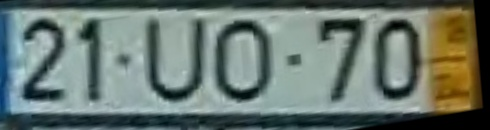0: (371, 15, 423, 104)
1: (73, 15, 104, 107)
2: (17, 15, 69, 102)
7: (315, 17, 368, 106)
O: (212, 15, 276, 105)
U: (142, 16, 208, 107)
